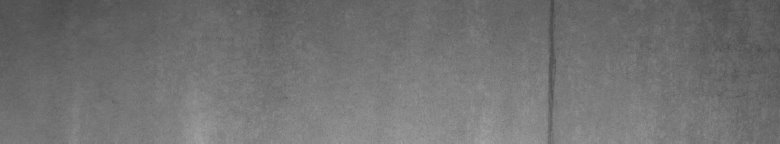hd: (540, 4, 560, 136)
